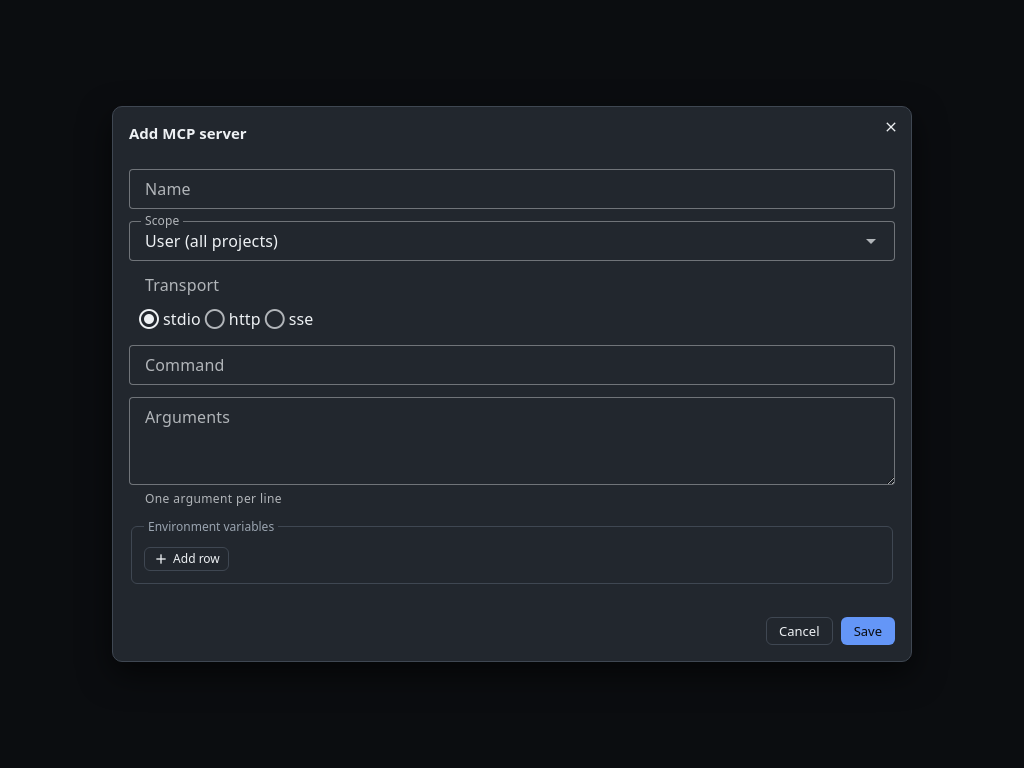
Scenario: McpServerDialog › shows the API error inline and keeps the dialog open
This screenshot has width=1024, height=768.
Type "a" into the field labelled "Name" at (512, 189), box [129, 169, 895, 209]
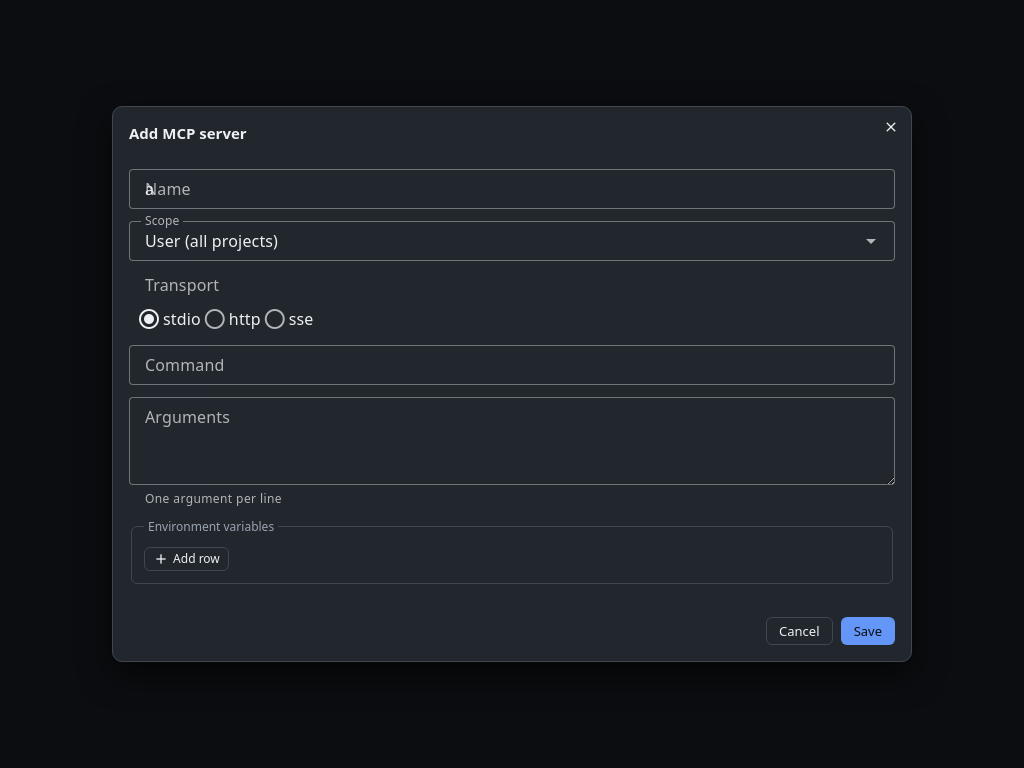
Type "npx" into the field labelled "Command" at (512, 365), box [129, 345, 895, 385]
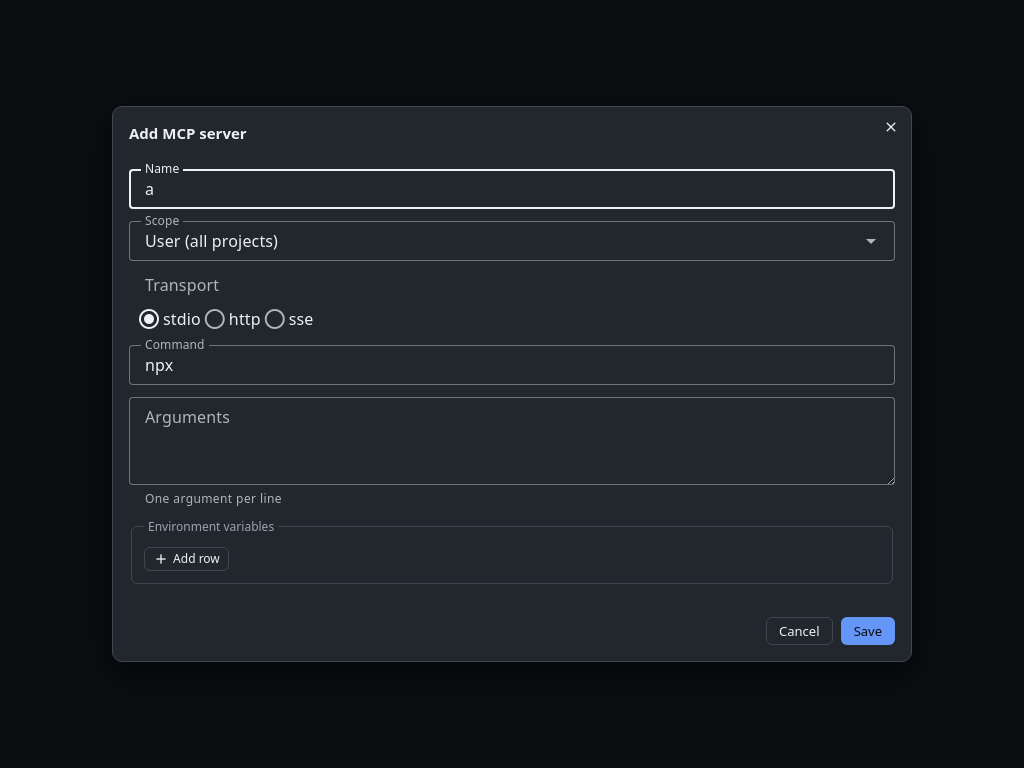
Click the button "Save" at (868, 631), box [840, 617, 895, 645]
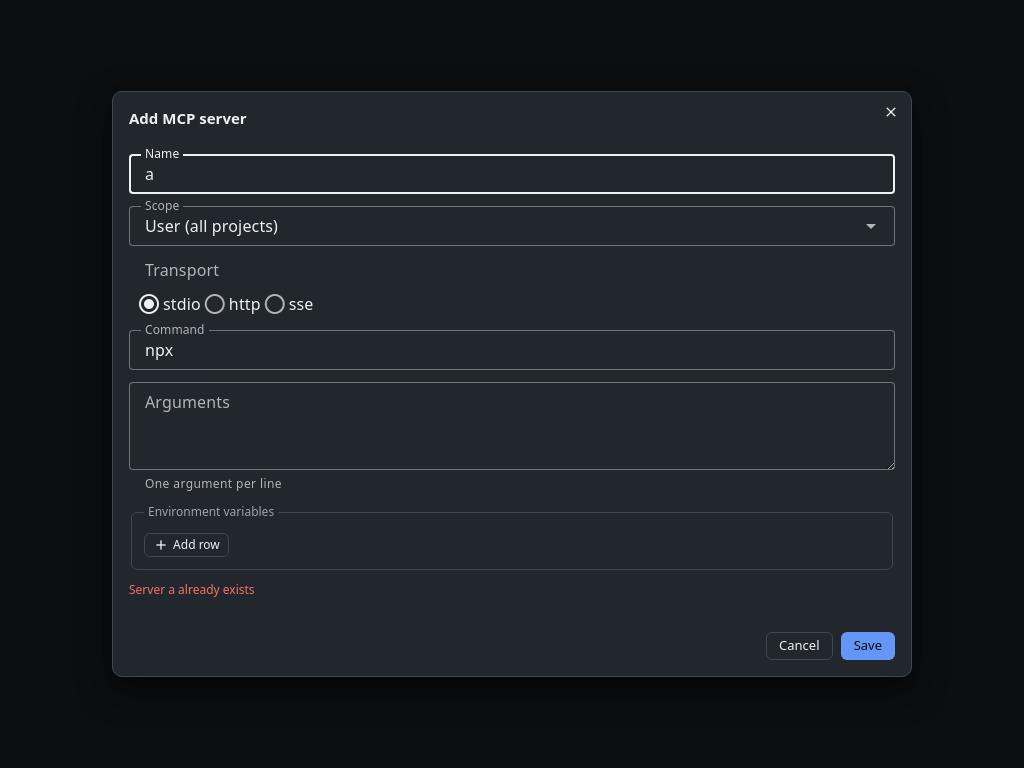
Now the message with class "mcp-form__error" reads "Server a already exists", box [129, 581, 255, 598]
